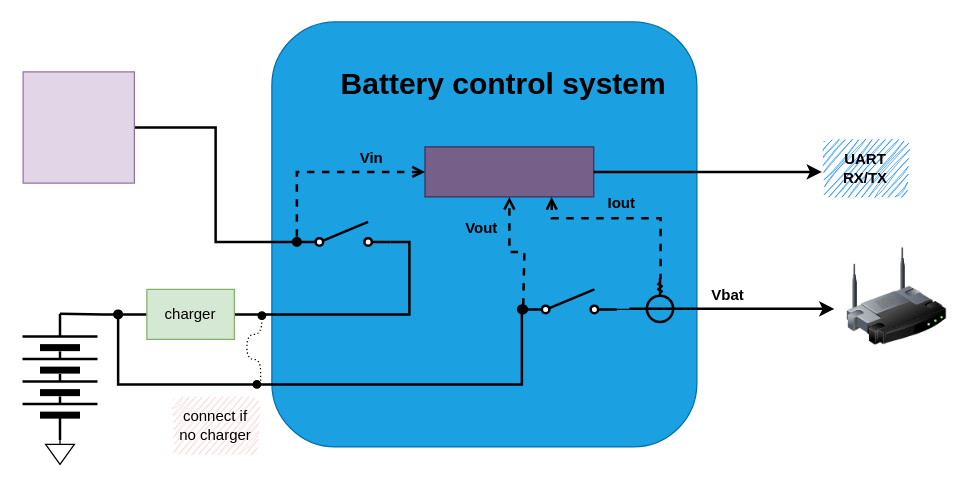
Some shapes in this 969 by 486 pixel diagram are drawn without their labels. Here are the shapes that lost their labels. From the top down, the centre of each, then its label:
At point 78,127: "12V power source".
At point 509,171: "ARDUINO".
